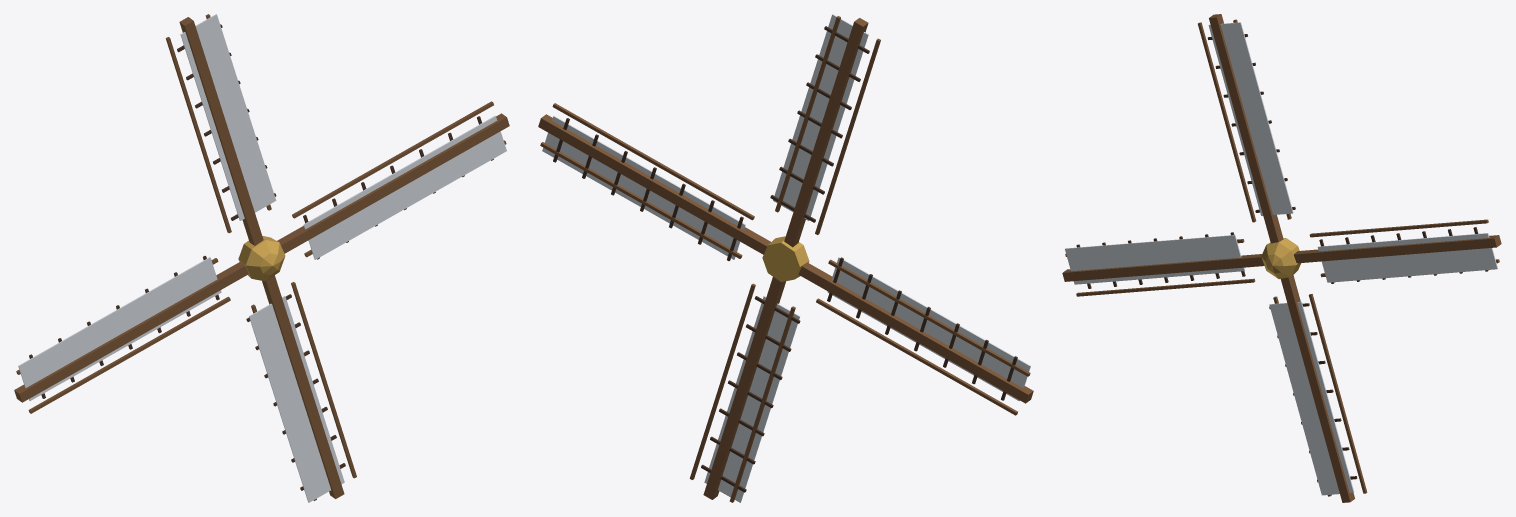
File: WindmillSails.obj
The picture shows the model from 3 angles, left to right: view 1: azimuth 30°, elevation 25°; view 2: azimuth 150°, elevation 25°; view 3: azimuth 330°, elevation 25°; orthographic projection. The views are drawn at different scales.
Bounding box in the file's own units: 23.44 × 23.44 × 1.3.
